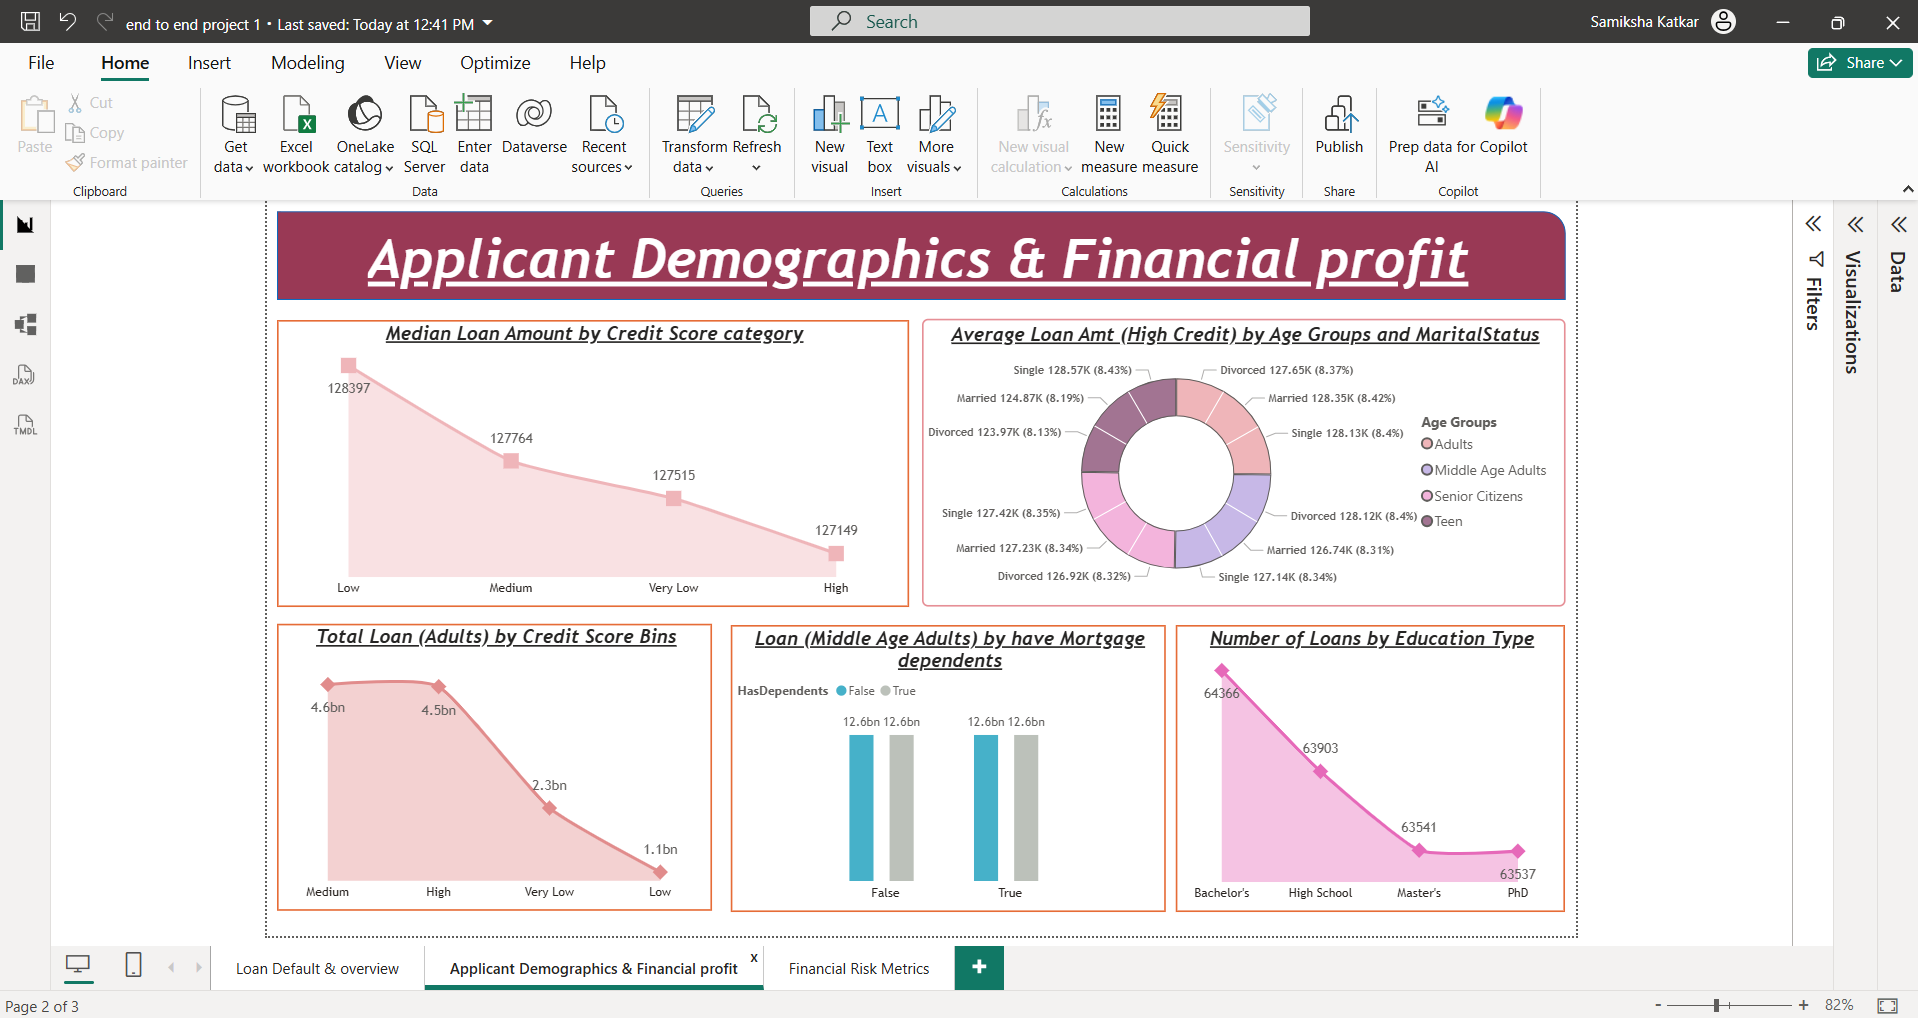

This screenshot's page, from the dashboard's own definition file:
{"tool":"powerbi","page":{"name":"Applicant Demographics & Financial profit","canvas":[1280,720],"ordinal":1},"visuals":[{"type":"shape","box":[9.8,11,1260.7,86.8],"z":0},{"type":"lineChart","title":"Median Loan Amount by Credit Score category","fields":{"Y":["Measures Table 2.Median by Credit Score bins"],"Category":["Loan_default.Credit Score Bins"]},"box":[10,117.4,618.3,281],"z":1000},{"type":"donutChart","fields":{"Y":["Measures Table 2.Average Loan Amt (High Credit)"],"Series":["Loan_default.MaritalStatus"],"Category":["Loan_default.Age Groups"]},"box":[640.8,116.2,629.8,281.3],"z":2000},{"type":"lineChart","title":"Total Loan (Adults) by Credit Score Bins","fields":{"Category":["Loan_default.Credit Score Bins"],"Y":["Measures Table 2.Total loan (Credit Bins)"]},"box":[10,414.7,425.9,281],"z":3000},{"type":"clusteredColumnChart","title":"Loan  (Middle Age Adults) by have Mortgage dependents","fields":{"Category":["Loan_default.HasMortgage"],"Y":["Measures Table 2.Total loan (Credit Bins)"],"Series":["Loan_default.HasDependents"]},"box":[453.4,415.9,425.9,281],"z":4000},{"type":"lineChart","title":"Number of Loans by Education Type","fields":{"Y":["Measures Table 2.Loans by Education type"],"Category":["Loan_default.Education"]},"box":[889.3,415.9,381,281],"z":5000}]}

Visuals, with their boxes on the page's 1280x720 design canvas (x1, y1, x2, y2). These are canvas units, not pixel positions in the 1918x1018 screenshot, which may show the page scaled, cropped or inside an application window:
shape: 10:11:1270:98
"Median Loan Amount by Credit Score category" lineChart: 10:117:628:398
donutChart - Measures Table 2.Average Loan Amt (High Credit) x Loan_default.MaritalStatus: 641:116:1271:398
"Total Loan (Adults) by Credit Score Bins" lineChart: 10:415:436:696
"Loan  (Middle Age Adults) by have Mortgage dependents" clusteredColumnChart: 453:416:879:697
"Number of Loans by Education Type" lineChart: 889:416:1270:697
